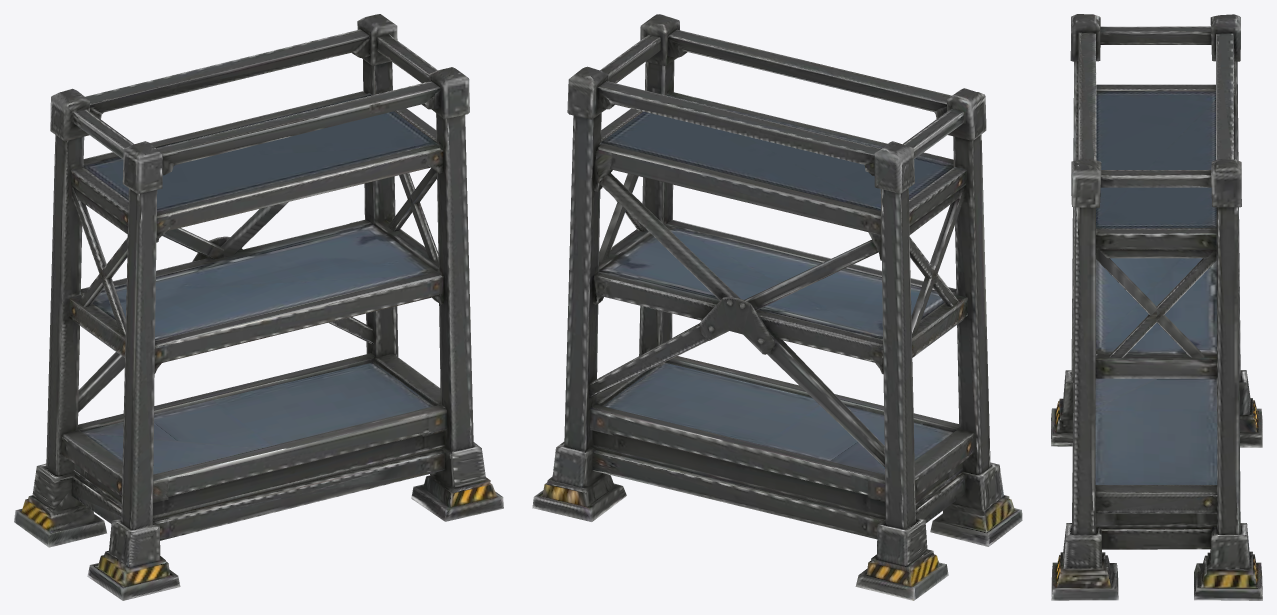
File: stand.glb
3 views of the same model, side by side, from view 1: azimuth 30°, elevation 25°; view 2: azimuth 150°, elevation 25°; view 3: azimuth 270°, elevation 25° (orthographic). The views are drawn at different scales.
Visible parts, largest first — view 1: mesh_node; view 2: mesh_node; view 3: mesh_node.
Boxes of the visible parts, bbox=[...] form: mesh_node: bbox=[14, 14, 503, 600]; mesh_node: bbox=[532, 14, 1022, 600]; mesh_node: bbox=[1051, 14, 1262, 600].
Bounding box in the file's own units: 0.9219 × 0.998 × 0.4551.
1 material, 1 textured.
